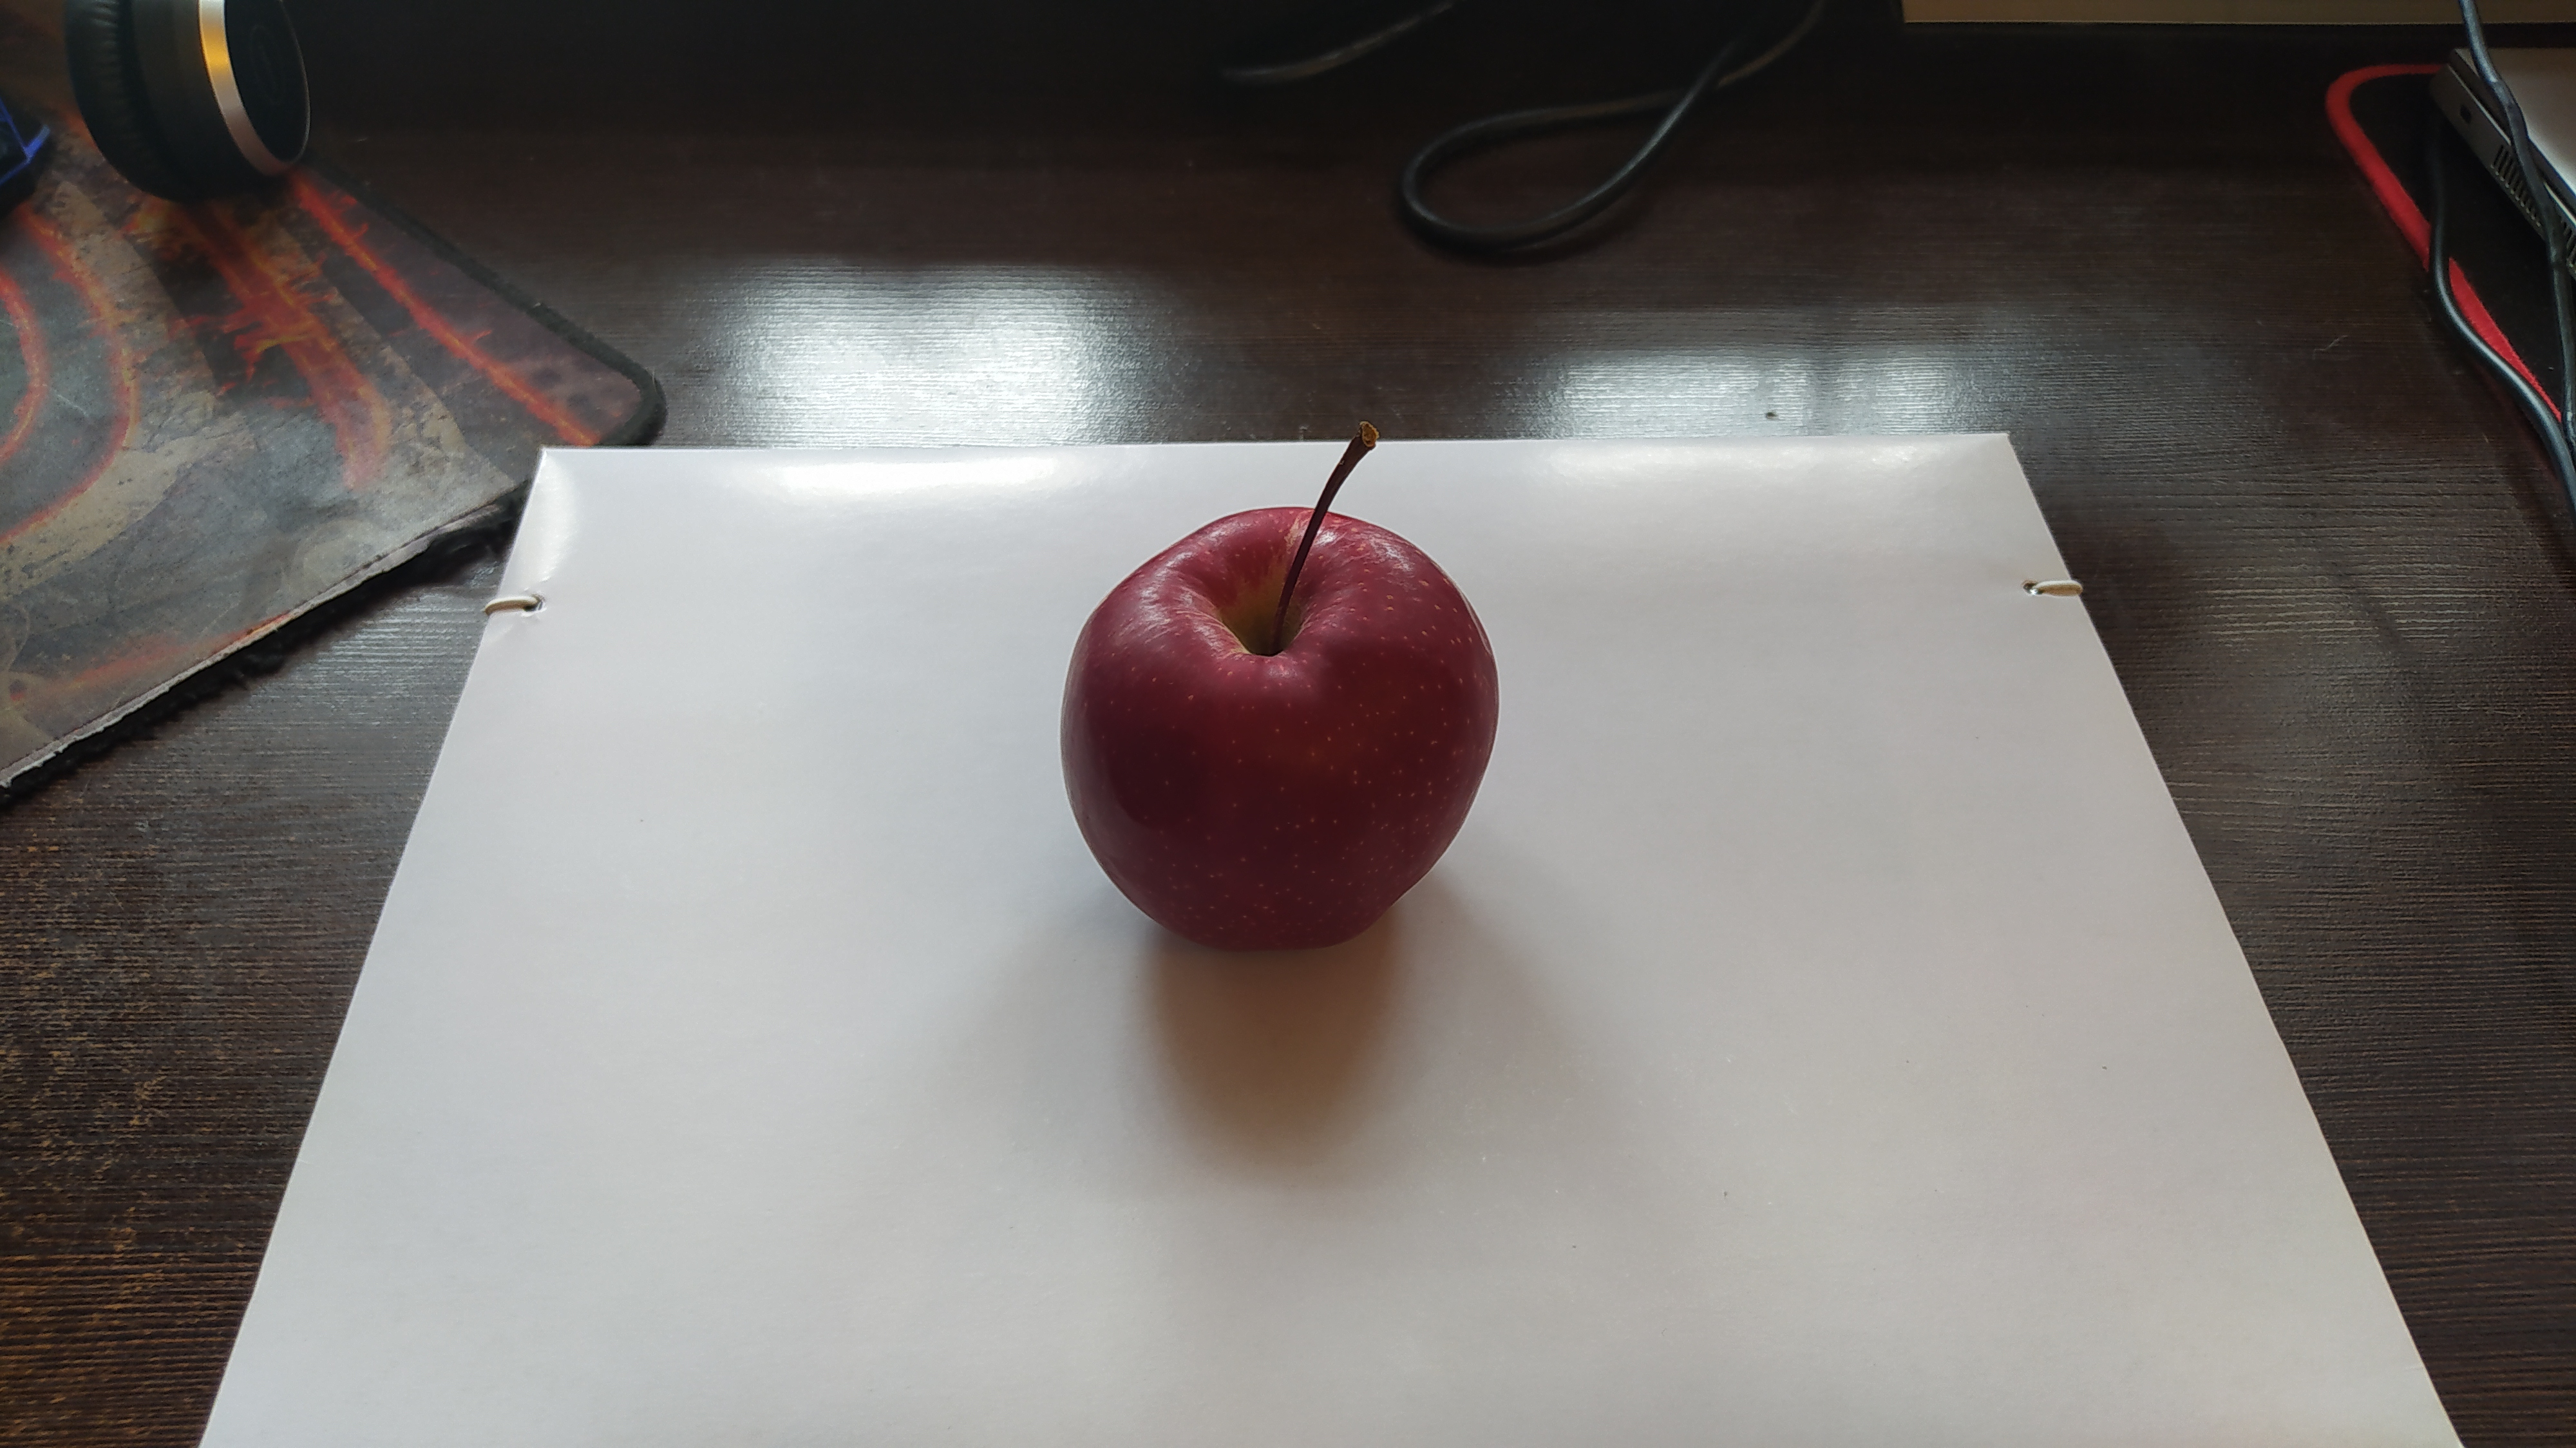apple: (1056, 499, 1504, 952)
